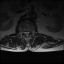CCS_normal: (26, 29, 28, 38)
LFS_stenosis: (30, 29, 32, 34)
LLS_normal: (27, 29, 29, 36)
RFS_stenosis: (21, 30, 23, 35)
RLS_normal: (23, 30, 26, 36)
